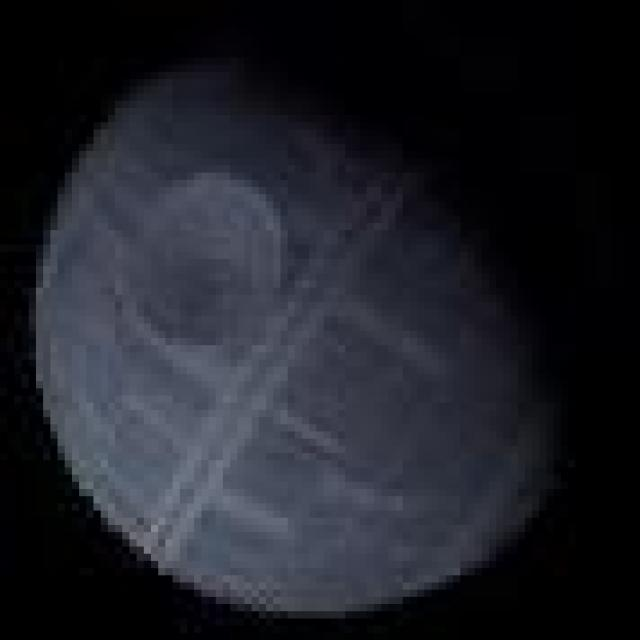Death Star: (21, 51, 561, 618)
